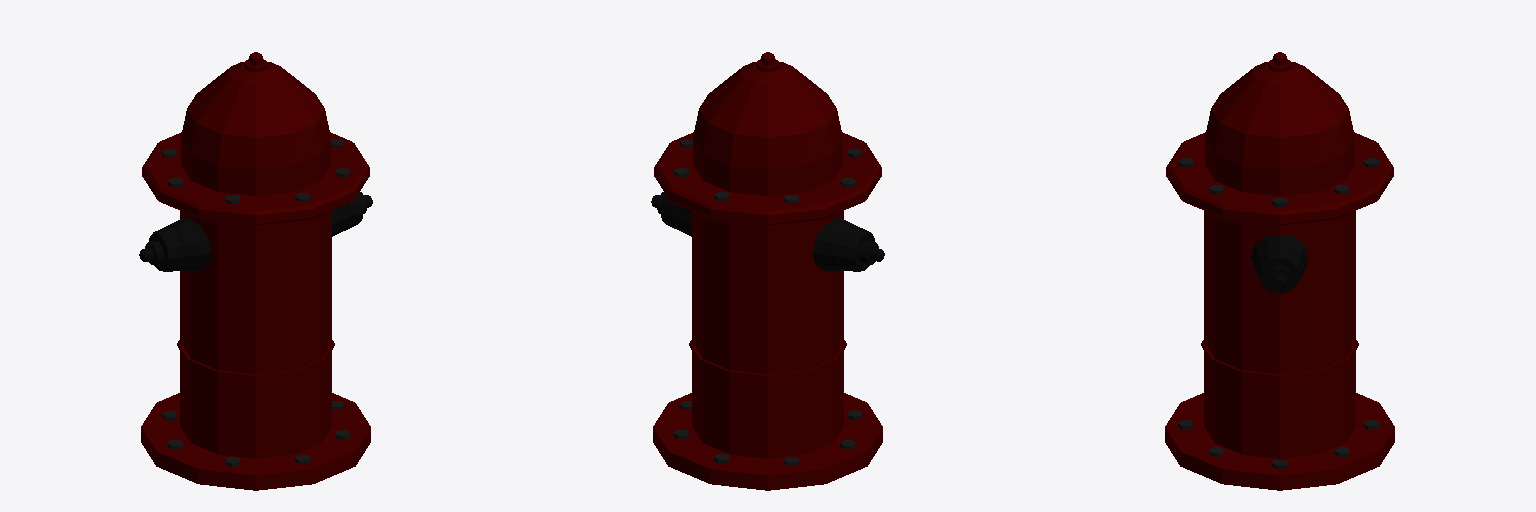
The model's file is fire_hydrant.obj.
3 renders of one model, left to right at view 1: azimuth 30°, elevation 25°; view 2: azimuth 150°, elevation 25°; view 3: azimuth 270°, elevation 25°, orthographic.
Visible parts, largest first — view 1: fire_hydrant; view 2: fire_hydrant; view 3: fire_hydrant.
Part boxes in pixels (x1,y1,x2,y2): fire_hydrant: (139,52,372,490); fire_hydrant: (651,52,884,490); fire_hydrant: (1165,52,1394,490).
Bounding box in the file's own units: 0.4209 × 0.7098 × 0.3662.